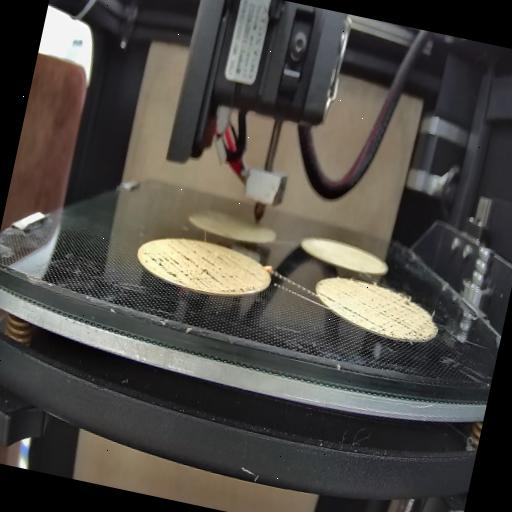under_extrusion: (137, 238, 263, 300), (336, 284, 433, 343), (316, 287, 338, 306)
